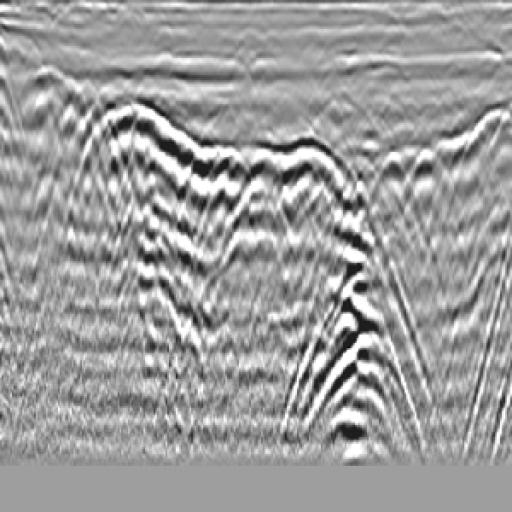metalic: (200, 125, 304, 286)
